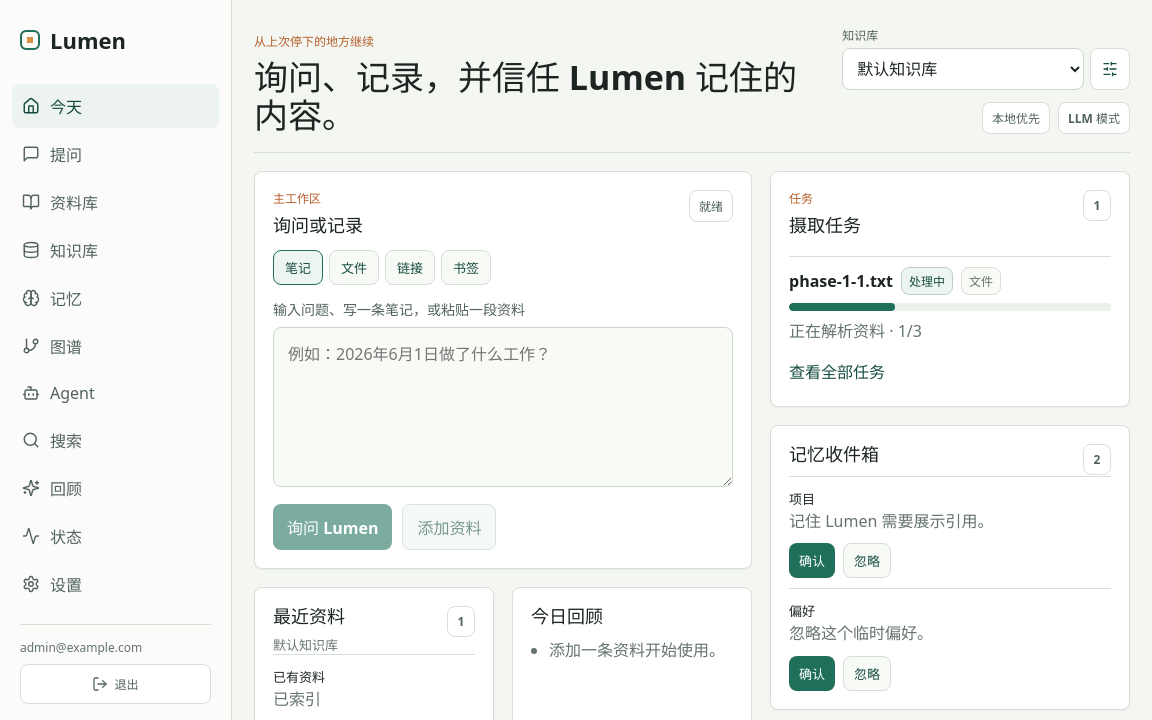
Test: Lumen workbench › renders status view when service health payload is missing
The width and height of the screenshot is (1152, 720).
Click the button "状态". click: (116, 536)
box: [12, 514, 219, 558]
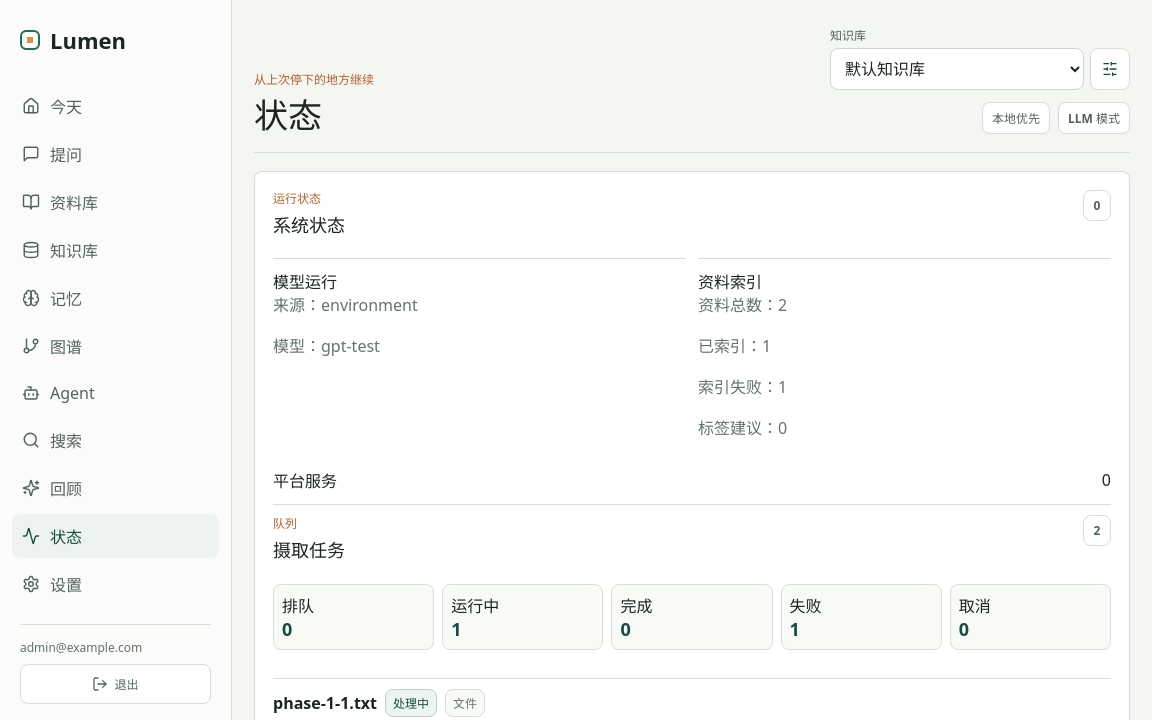
Expected: the text "平台服务" is shown, [273, 468, 337, 492]
Expected: the text "0" in the row of "平台服务" is shown, [1102, 469, 1111, 491]
